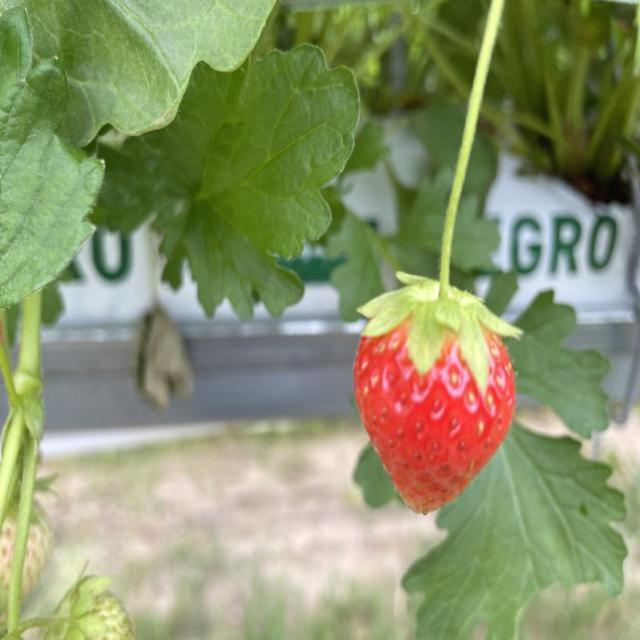stem: (360, 0, 516, 392)
strawberryR: (353, 327, 516, 513)
